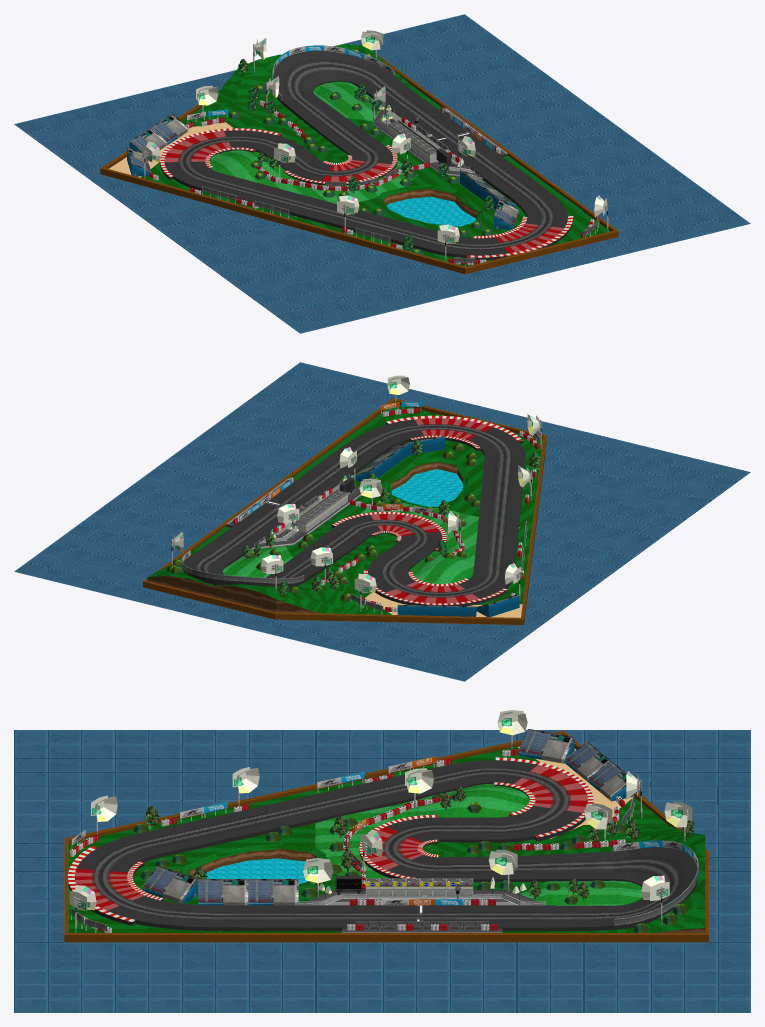
3 renders of one model, top to bottom at view 1: azimuth 30°, elevation 25°; view 2: azimuth 150°, elevation 25°; view 3: azimuth 270°, elevation 25°, orthographic. The views are drawn at different scales.
Visible parts, largest first — view 1: _3DS_Streetpass_Simple_Circuit-GRP-224866-auto14, _3DS_Streetpass_Simple_Circuit-GRP-224866-auto7, _3DS_Streetpass_Simple_Circuit-GRP-224866-Material1, _3DS_Streetpass_Simple_Circuit-GRP-224866-auto17, _3DS_Streetpass_Simple_Circuit-GRP-224866-auto3, _3DS_Streetpass_Simple_Circuit-GRP-224866-auto11, _3DS_Streetpass_Simple_Circuit-GRP-224866-auto15, _3DS_Streetpass_Simple_Circuit-GRP-224866-auto6, _3DS_Streetpass_Simple_Circuit-GRP-224866-auto8, _3DS_Streetpass_Simple_Circuit-GRP-224866-auto4, _3DS_Streetpass_Simple_Circuit-GRP-224866-auto9, _3DS_Streetpass_Simple_Circuit-GRP-224866-water (+4 smaller); view 2: _3DS_Streetpass_Simple_Circuit-GRP-224866-auto14, _3DS_Streetpass_Simple_Circuit-GRP-224866-auto7, _3DS_Streetpass_Simple_Circuit-GRP-224866-Material1, _3DS_Streetpass_Simple_Circuit-GRP-224866-auto17, _3DS_Streetpass_Simple_Circuit-GRP-224866-auto3, _3DS_Streetpass_Simple_Circuit-GRP-224866-auto11, _3DS_Streetpass_Simple_Circuit-GRP-224866-auto15, _3DS_Streetpass_Simple_Circuit-GRP-224866-auto6, _3DS_Streetpass_Simple_Circuit-GRP-224866-auto5, _3DS_Streetpass_Simple_Circuit-GRP-224866-auto8, _3DS_Streetpass_Simple_Circuit-GRP-224866-water, _3DS_Streetpass_Simple_Circuit-GRP-224866-auto9 (+4 smaller); view 3: _3DS_Streetpass_Simple_Circuit-GRP-224866-auto14, _3DS_Streetpass_Simple_Circuit-GRP-224866-auto7, _3DS_Streetpass_Simple_Circuit-GRP-224866-auto17, _3DS_Streetpass_Simple_Circuit-GRP-224866-Material1, _3DS_Streetpass_Simple_Circuit-GRP-224866-auto3, _3DS_Streetpass_Simple_Circuit-GRP-224866-auto6, _3DS_Streetpass_Simple_Circuit-GRP-224866-auto15, _3DS_Streetpass_Simple_Circuit-GRP-224866-auto11, _3DS_Streetpass_Simple_Circuit-GRP-224866-auto8, _3DS_Streetpass_Simple_Circuit-GRP-224866-auto4, _3DS_Streetpass_Simple_Circuit-GRP-224866-auto9, _3DS_Streetpass_Simple_Circuit-GRP-224866-auto10 (+4 smaller).
Part boxes in pixels (<box>): _3DS_Streetpass_Simple_Circuit-GRP-224866-auto14: <box>14,14,750,333</box>; _3DS_Streetpass_Simple_Circuit-GRP-224866-auto7: <box>164,50,567,255</box>; _3DS_Streetpass_Simple_Circuit-GRP-224866-Material1: <box>141,44,610,266</box>; _3DS_Streetpass_Simple_Circuit-GRP-224866-auto17: <box>127,44,608,266</box>; _3DS_Streetpass_Simple_Circuit-GRP-224866-auto3: <box>100,54,618,274</box>; _3DS_Streetpass_Simple_Circuit-GRP-224866-auto11: <box>209,81,417,251</box>; _3DS_Streetpass_Simple_Circuit-GRP-224866-auto15: <box>142,30,606,243</box>; _3DS_Streetpass_Simple_Circuit-GRP-224866-auto6: <box>160,81,573,260</box>; _3DS_Streetpass_Simple_Circuit-GRP-224866-auto8: <box>164,131,563,251</box>; _3DS_Streetpass_Simple_Circuit-GRP-224866-auto4: <box>228,48,494,254</box>; _3DS_Streetpass_Simple_Circuit-GRP-224866-auto9: <box>165,132,561,253</box>; _3DS_Streetpass_Simple_Circuit-GRP-224866-water: <box>387,196,475,226</box>; _3DS_Streetpass_Simple_Circuit-GRP-224866-auto14: <box>14,362,750,681</box>; _3DS_Streetpass_Simple_Circuit-GRP-224866-auto7: <box>183,419,525,598</box>; _3DS_Streetpass_Simple_Circuit-GRP-224866-Material1: <box>148,405,542,614</box>; _3DS_Streetpass_Simple_Circuit-GRP-224866-auto17: <box>171,394,541,617</box>; _3DS_Streetpass_Simple_Circuit-GRP-224866-auto3: <box>143,398,546,625</box>; _3DS_Streetpass_Simple_Circuit-GRP-224866-auto11: <box>222,465,539,583</box>; _3DS_Streetpass_Simple_Circuit-GRP-224866-auto15: <box>174,375,540,593</box>; _3DS_Streetpass_Simple_Circuit-GRP-224866-auto6: <box>182,415,525,606</box>; _3DS_Streetpass_Simple_Circuit-GRP-224866-auto5: <box>147,461,463,613</box>; _3DS_Streetpass_Simple_Circuit-GRP-224866-auto8: <box>370,418,487,603</box>; _3DS_Streetpass_Simple_Circuit-GRP-224866-water: <box>391,469,462,506</box>; _3DS_Streetpass_Simple_Circuit-GRP-224866-auto9: <box>379,418,493,603</box>; _3DS_Streetpass_Simple_Circuit-GRP-224866-auto14: <box>14,730,750,1012</box>; _3DS_Streetpass_Simple_Circuit-GRP-224866-auto7: <box>76,760,697,927</box>; _3DS_Streetpass_Simple_Circuit-GRP-224866-auto17: <box>70,729,698,932</box>; _3DS_Streetpass_Simple_Circuit-GRP-224866-Material1: <box>68,746,705,932</box>; _3DS_Streetpass_Simple_Circuit-GRP-224866-auto3: <box>64,730,708,942</box>; _3DS_Streetpass_Simple_Circuit-GRP-224866-auto6: <box>67,757,697,931</box>; _3DS_Streetpass_Simple_Circuit-GRP-224866-auto15: <box>69,710,692,910</box>; _3DS_Streetpass_Simple_Circuit-GRP-224866-auto11: <box>148,783,642,905</box>; _3DS_Streetpass_Simple_Circuit-GRP-224866-auto8: <box>74,765,587,910</box>; _3DS_Streetpass_Simple_Circuit-GRP-224866-auto4: <box>133,792,688,932</box>; _3DS_Streetpass_Simple_Circuit-GRP-224866-auto9: <box>74,768,587,907</box>; _3DS_Streetpass_Simple_Circuit-GRP-224866-auto10: <box>144,786,694,901</box>.
Size of what is drawn, in the model's own units: 65563 by 7944 by 72120.
17 materials, 17 textured.
